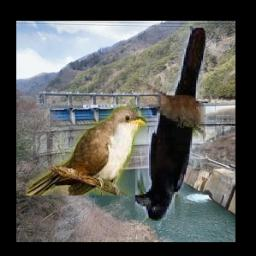Crow: (135, 27, 205, 221)
Cuckoo: (26, 106, 147, 195)
